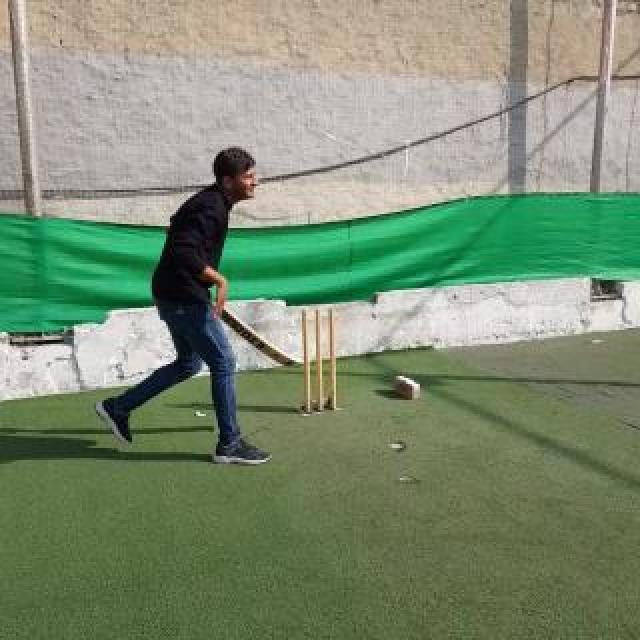bat: (210, 298, 304, 370)
